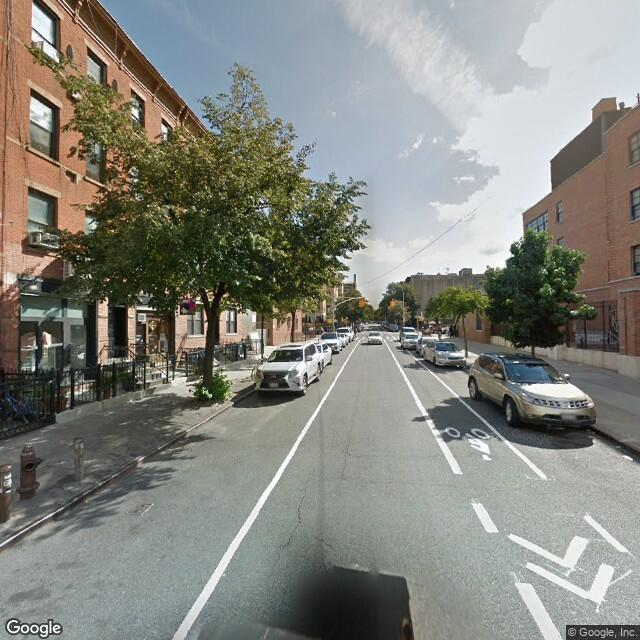litter: (624, 454, 635, 465), (607, 443, 622, 449), (578, 361, 589, 367)
